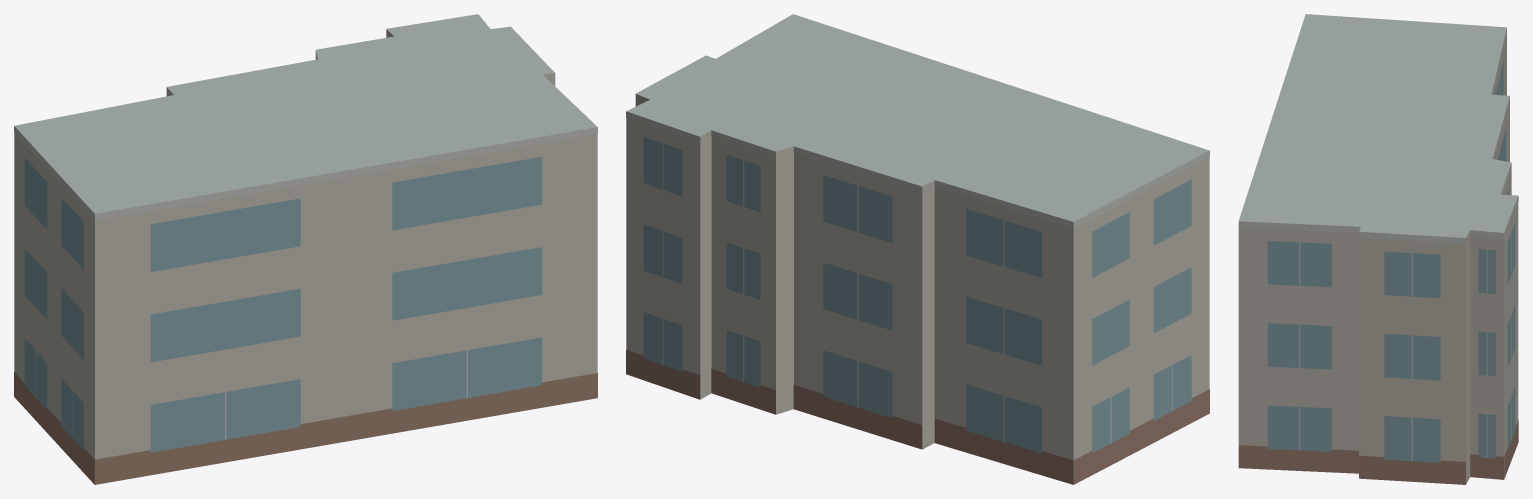
The model's file is survey-upis-32705400.glb.
3 renders of one model, left to right at view 1: azimuth 30°, elevation 25°; view 2: azimuth 150°, elevation 25°; view 3: azimuth 270°, elevation 25°, orthographic. The views are drawn at different scales.
Parts seen in each view (by area): view 1: survey-upis-32705400.tmp; view 2: survey-upis-32705400.tmp; view 3: survey-upis-32705400.tmp.
Part boxes in pixels (x1,y1,x2,y2): survey-upis-32705400.tmp: (14,14,597,484); survey-upis-32705400.tmp: (626,14,1209,484); survey-upis-32705400.tmp: (1238,14,1518,484).
Size of the model in its own units: 19.08 by 9.8 by 10.08.
